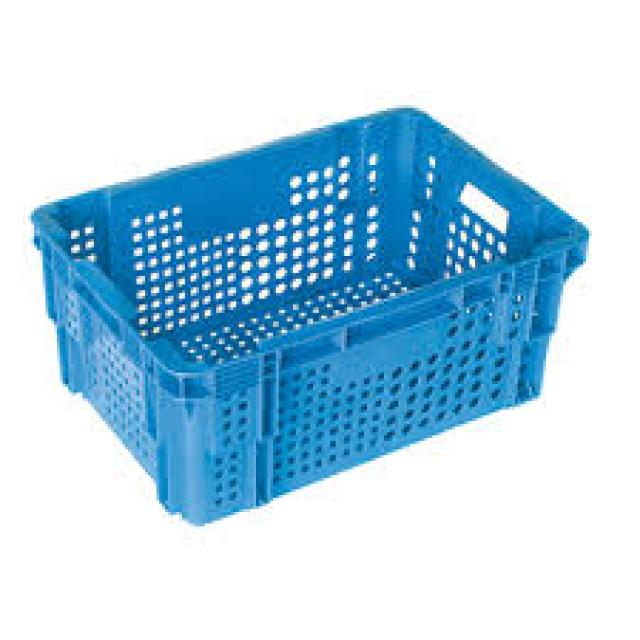basket: (4, 30, 639, 553)
